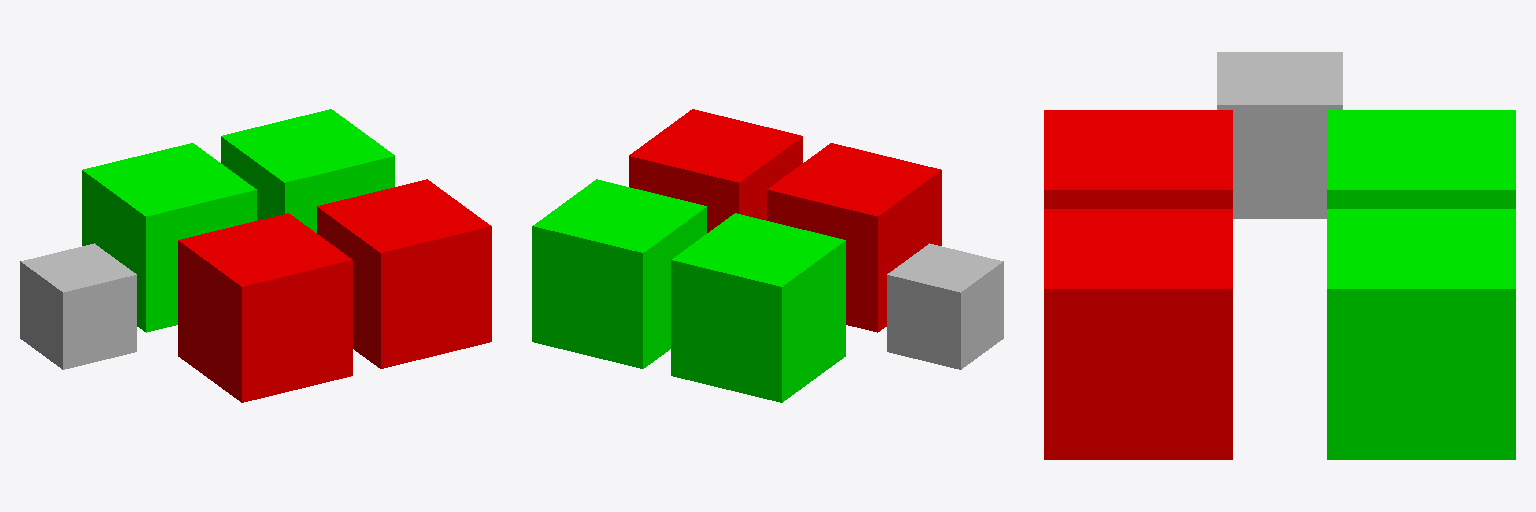
URDF robot description (meshes):
<?xml version="1.0"?>
<robot name="meshes">
  <link name="link_mesh_stl">
    <visual>
      <geometry>
        <mesh filename="assets/box.stl" scale="0.8 0.8 0.8" />
      </geometry>
    </visual>
  </link>
  <link name="link_mesh_obj">
    <visual>
      <geometry>
        <mesh filename="assets/box.obj" scale="0.8 0.8 0.8" />
      </geometry>
    </visual>
  </link>
  <link name="link_mesh_dae">
    <visual>
      <geometry>
        <mesh filename="assets/box.dae" scale="0.8 0.8 0.8" />
      </geometry>
    </visual>
    <collision>
      <geometry>
        <mesh filename="assets/box.dae" scale="0.8 0.8 0.8" />
      </geometry>
    </collision>
  </link>
  <link name="link_two_meshes_dae">
    <visual>
      <geometry>
        <mesh filename="assets/two_meshes.dae" scale="0.6 0.6 0.6" />
      </geometry>
    </visual>
  </link>
  <link name="link_two_meshes_triangle_dae">
    <visual>
      <geometry>
        <mesh filename="assets/two_meshes_triangle.dae" scale="0.6 0.6 0.6" />
      </geometry>
    </visual>
  </link>
  <link name="link_mesh_dxf"> <!-- Unsupported formats -->
    <visual>
      <geometry>
        <mesh filename="assets/box.dxf" scale="0.8 0.8 0.8" />
      </geometry>
    </visual>
  </link>

  <joint name="joint_stl_obj" type="fixed">
    <origin rpy="0 0 0" xyz="1 0 0"/>
    <parent link="link_mesh_stl"/>
    <child link="link_mesh_obj"/>
  </joint>
  <joint name="joint_obj_dae" type="fixed">
    <origin rpy="0 0 0" xyz="1.5 0 0"/>
    <parent link="link_mesh_obj"/>
    <child link="link_mesh_dae"/>
  </joint>
  <joint name="joint_dae_multiple" type="fixed">
    <origin rpy="0 0 1.570796" xyz="1.5 0 0"/>
    <parent link="link_mesh_dae"/>
    <child link="link_two_meshes_dae"/>
  </joint>
  <joint name="joint_dae_multiple_triangle" type="fixed">
    <origin rpy="0 0 0" xyz="0 -1.5 0"/>
    <parent link="link_two_meshes_dae"/>
    <child link="link_two_meshes_triangle_dae"/>
  </joint>
  <joint name="joint_dae_dxf" type="fixed">
    <origin rpy="0 0 0" xyz="1 0 0"/>
    <parent link="link_two_meshes_triangle_dae"/>
    <child link="link_mesh_dxf"/>
  </joint>
</robot>

--- Facts derived from the render (not from the file) ---
Views: 3 orthographic renders of the robot side by side, from view 1: azimuth 30°, elevation 25°; view 2: azimuth 150°, elevation 25°; view 3: azimuth 270°, elevation 25°.
Model meshes with 6 links and 5 joints (5 fixed), rooted at link_mesh_stl, posed every joint at zero.
Visible links, largest first — view 1: link_two_meshes_dae, link_two_meshes_triangle_dae, link_mesh_dae; view 2: link_two_meshes_dae, link_two_meshes_triangle_dae, link_mesh_dae; view 3: link_two_meshes_triangle_dae, link_two_meshes_dae, link_mesh_dae.
Boxes of the visible links, x1,y1,x2,y2 form: link_two_meshes_dae: [82, 143, 352, 402]; link_two_meshes_triangle_dae: [221, 109, 491, 368]; link_mesh_dae: [20, 243, 136, 369]; link_two_meshes_dae: [671, 143, 941, 402]; link_two_meshes_triangle_dae: [532, 109, 802, 368]; link_mesh_dae: [887, 243, 1003, 369]; link_two_meshes_triangle_dae: [1044, 209, 1515, 459]; link_two_meshes_dae: [1044, 110, 1515, 208]; link_mesh_dae: [1217, 52, 1342, 218].
Size in the robot's own frame: 4 by 3 by 1.2 metres.
Meshes: 6 distinct files referenced, 3 mesh visuals loaded (3 Collada DAE); not drawn: 3 (reference not matched to a file when rendering).
